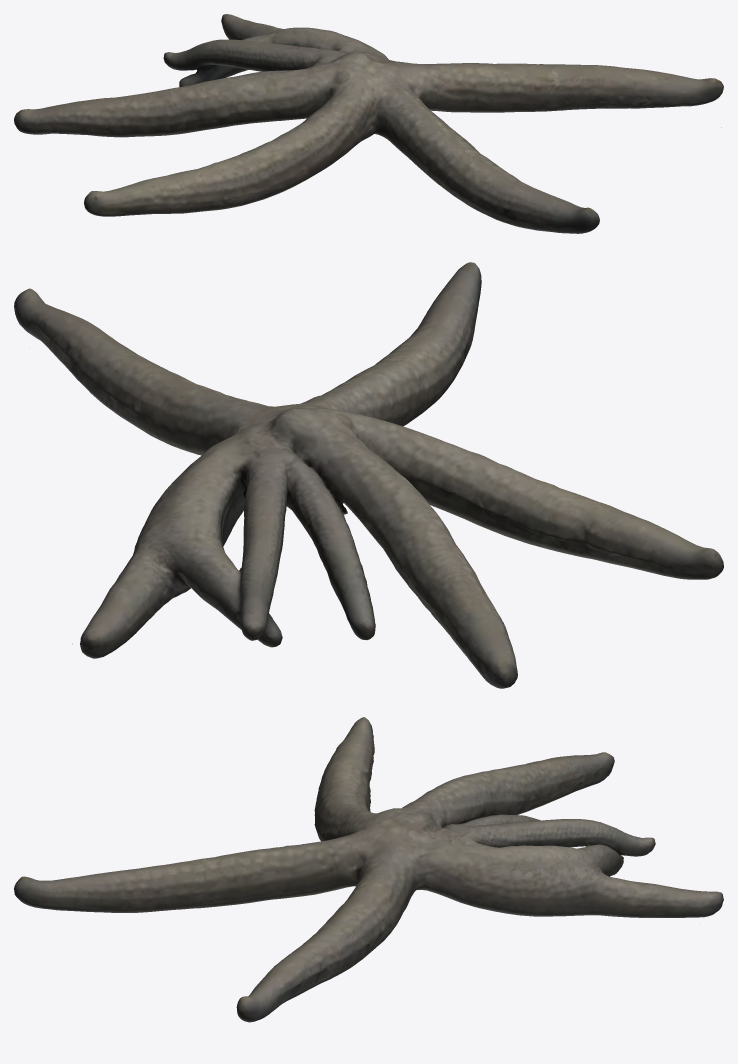
The model's file is linckia-laevigata-aff2c3e5.glb.
The picture shows the model from 3 angles, top to bottom: view 1: azimuth 30°, elevation 25°; view 2: azimuth 150°, elevation 25°; view 3: azimuth 270°, elevation 25°; orthographic projection. The views are drawn at different scales.
Size of the model in its own units: 0.1603 by 0.0235 by 0.1575.
1 material, 1 textured.
